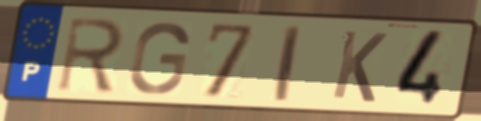4: (393, 27, 451, 112)
7: (205, 20, 258, 101)
G: (126, 20, 192, 97)
I: (272, 22, 304, 104)
K: (329, 27, 391, 105)
R: (53, 15, 127, 95)
